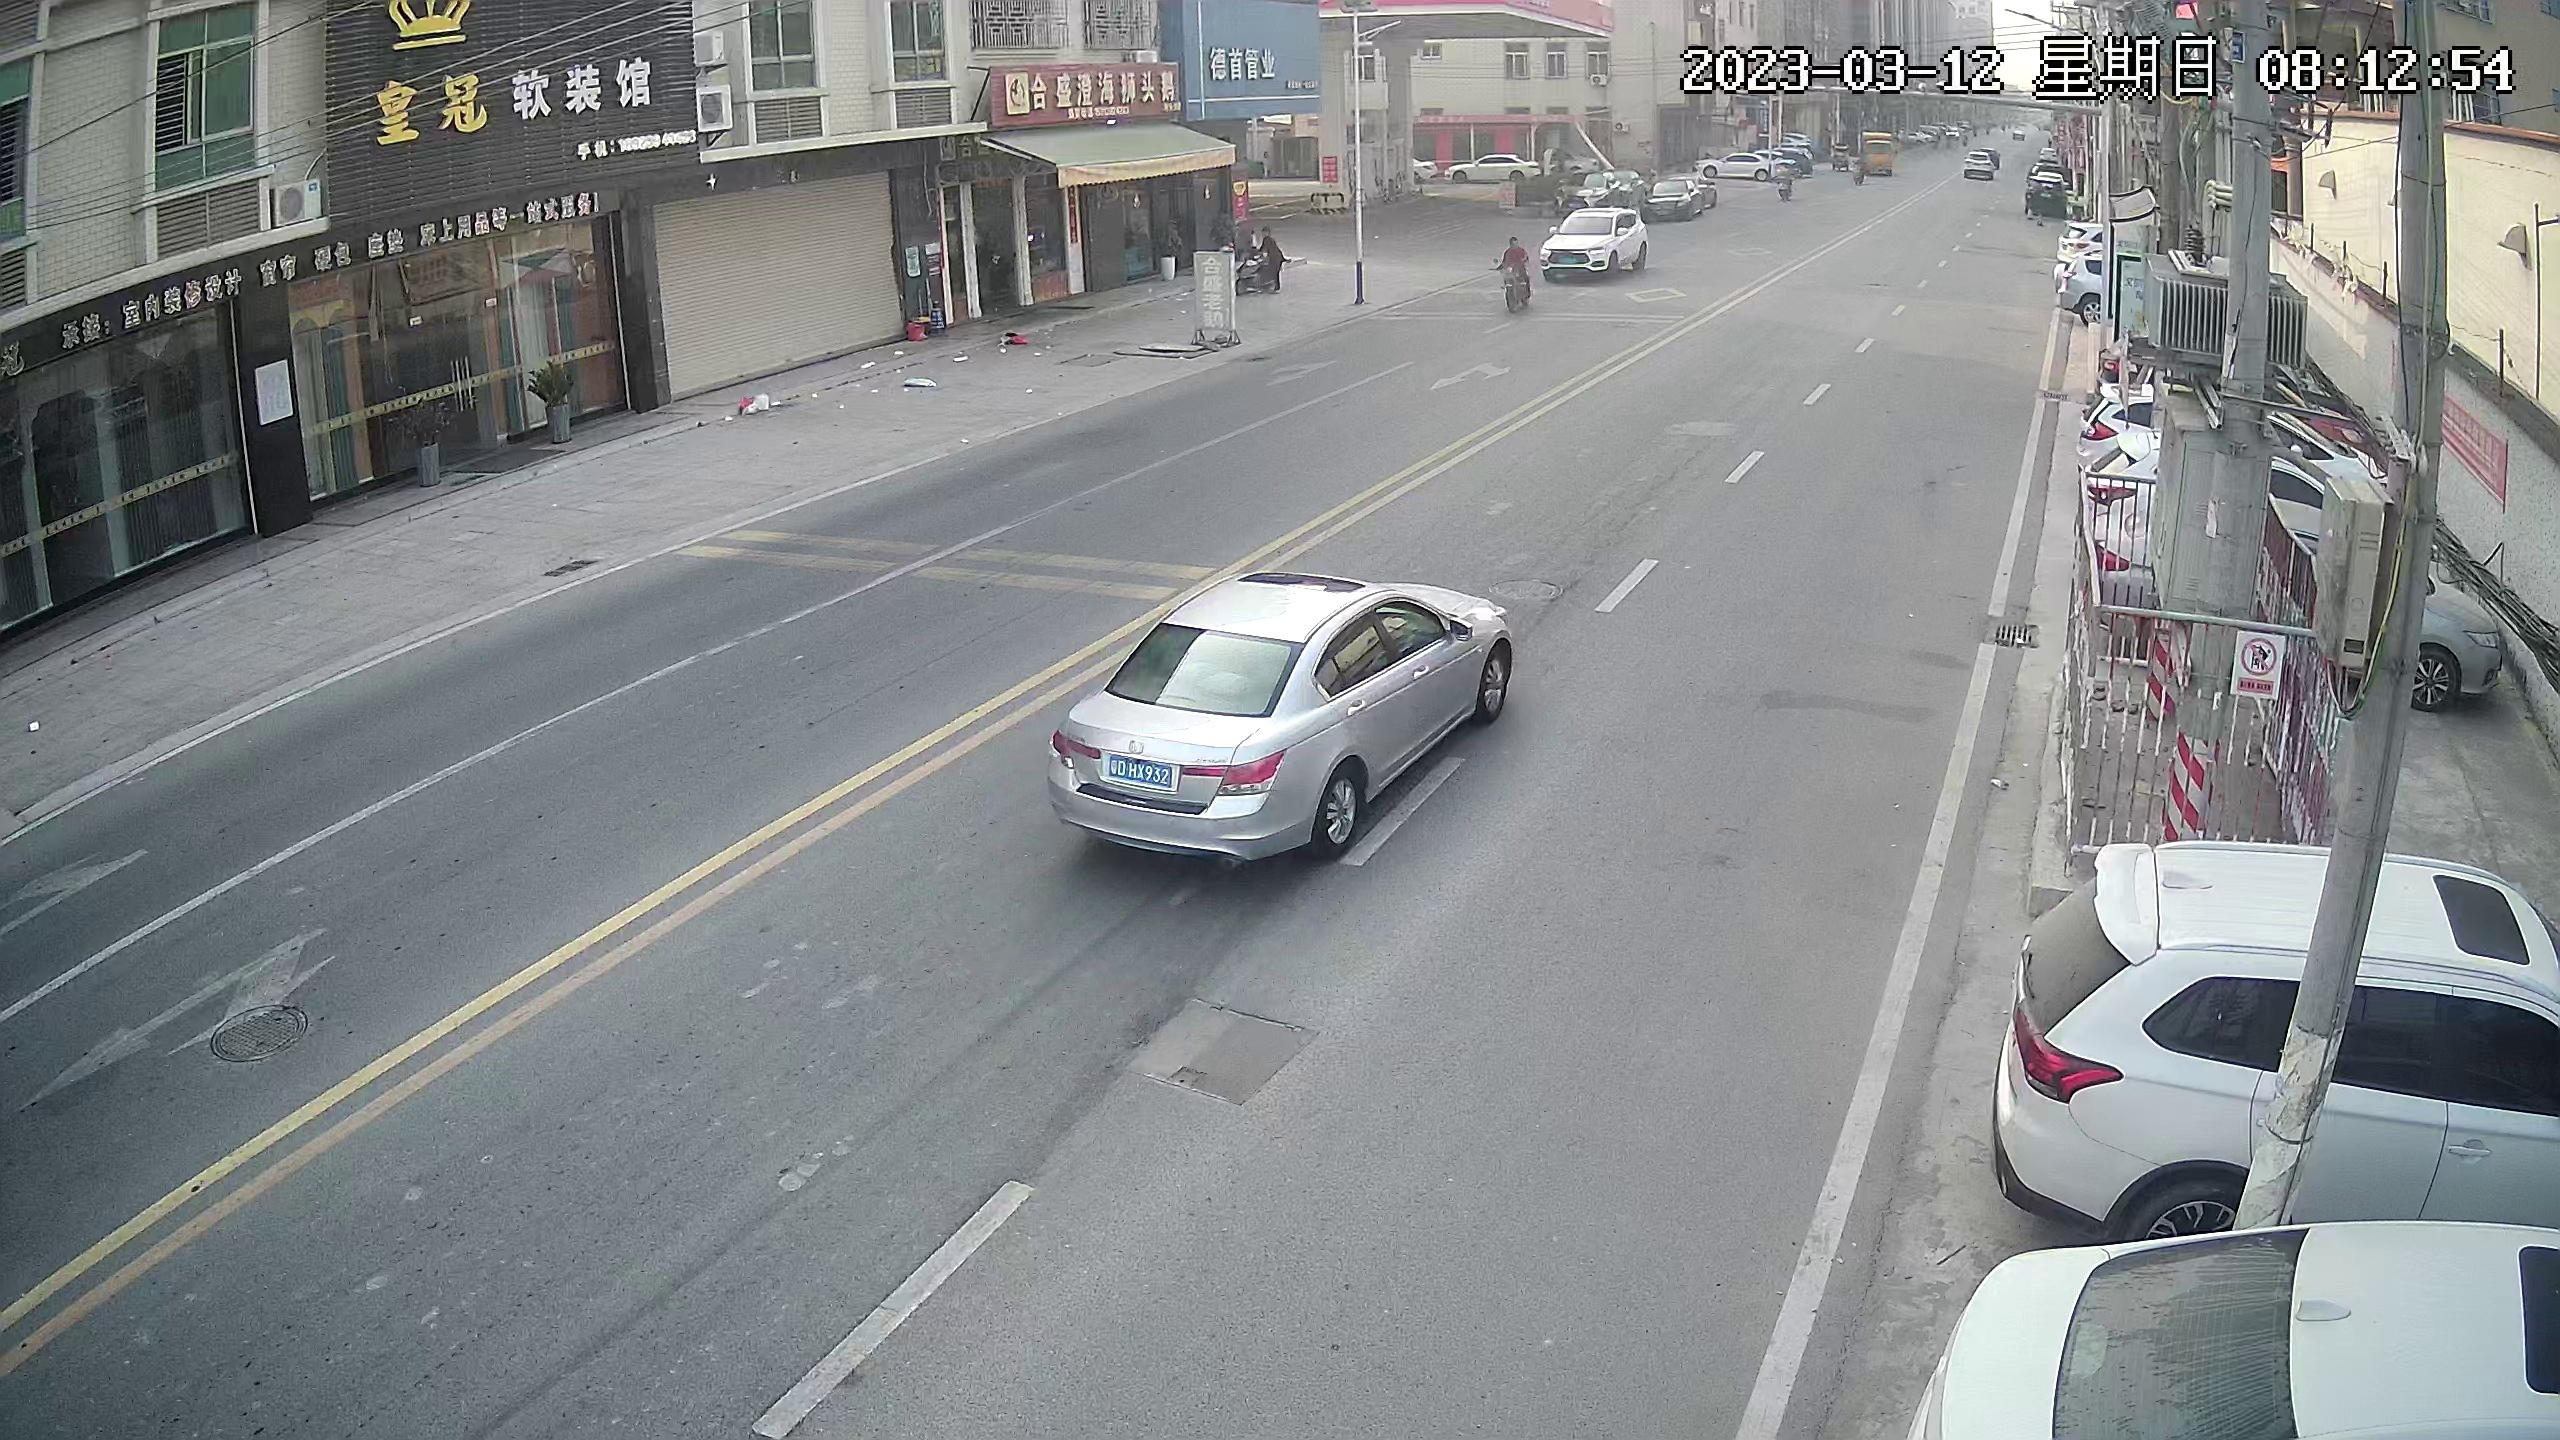motorcycle: (1493, 234, 1537, 316), (1243, 232, 1284, 297)
sedan: (1074, 556, 1517, 909), (1924, 1233, 2560, 1440), (2106, 513, 2490, 695), (2089, 440, 2368, 515), (2103, 387, 2316, 448), (1697, 149, 1778, 183), (1449, 155, 1531, 186), (2068, 234, 2099, 315), (2033, 164, 2068, 215), (1653, 183, 1698, 222)
suv: (2018, 863, 2560, 1259), (1547, 207, 1647, 287), (1964, 148, 1997, 179)
truck: (1860, 125, 1894, 183)
